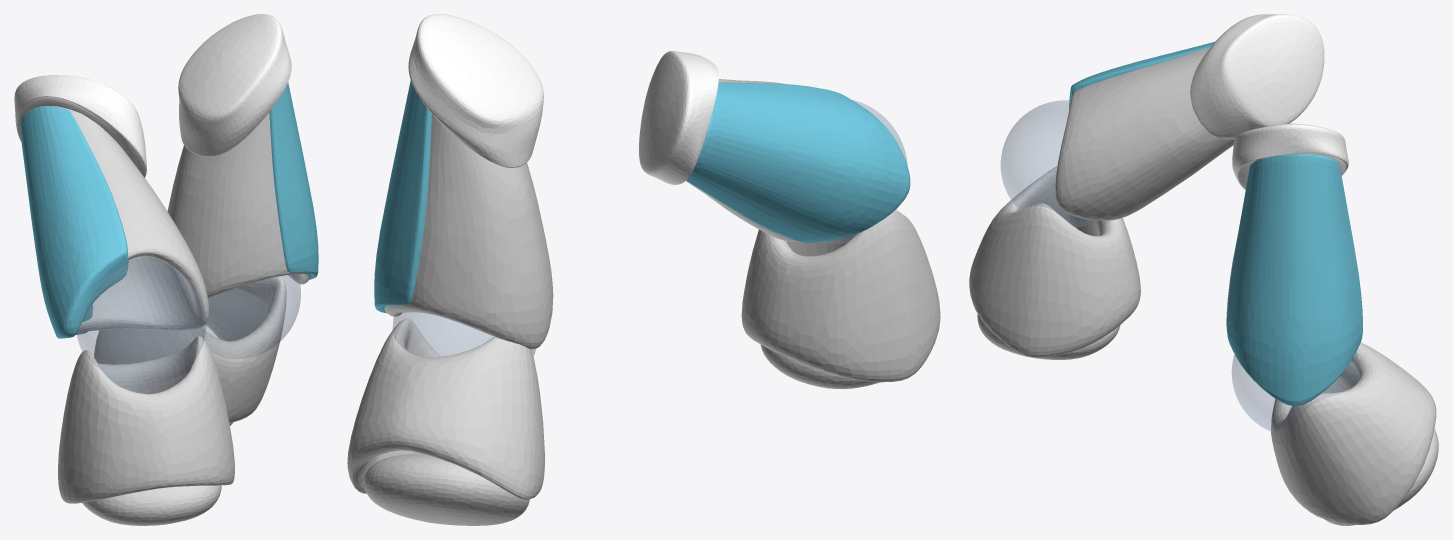
File: leg.glb
3 renders of one model, left to right at view 1: azimuth 30°, elevation 25°; view 2: azimuth 150°, elevation 25°; view 3: azimuth 270°, elevation 25°, orthographic. The views are drawn at different scales.
Parts seen in each view (by area): view 1: leg; view 2: leg; view 3: leg.
Boxes of the visible parts, x1,y1,x2,y2 form: leg: (14,14,318,525); leg: (347,14,940,525); leg: (969,14,1438,525).
Size of the model in its own units: 2.6 by 2.91 by 2.96.
